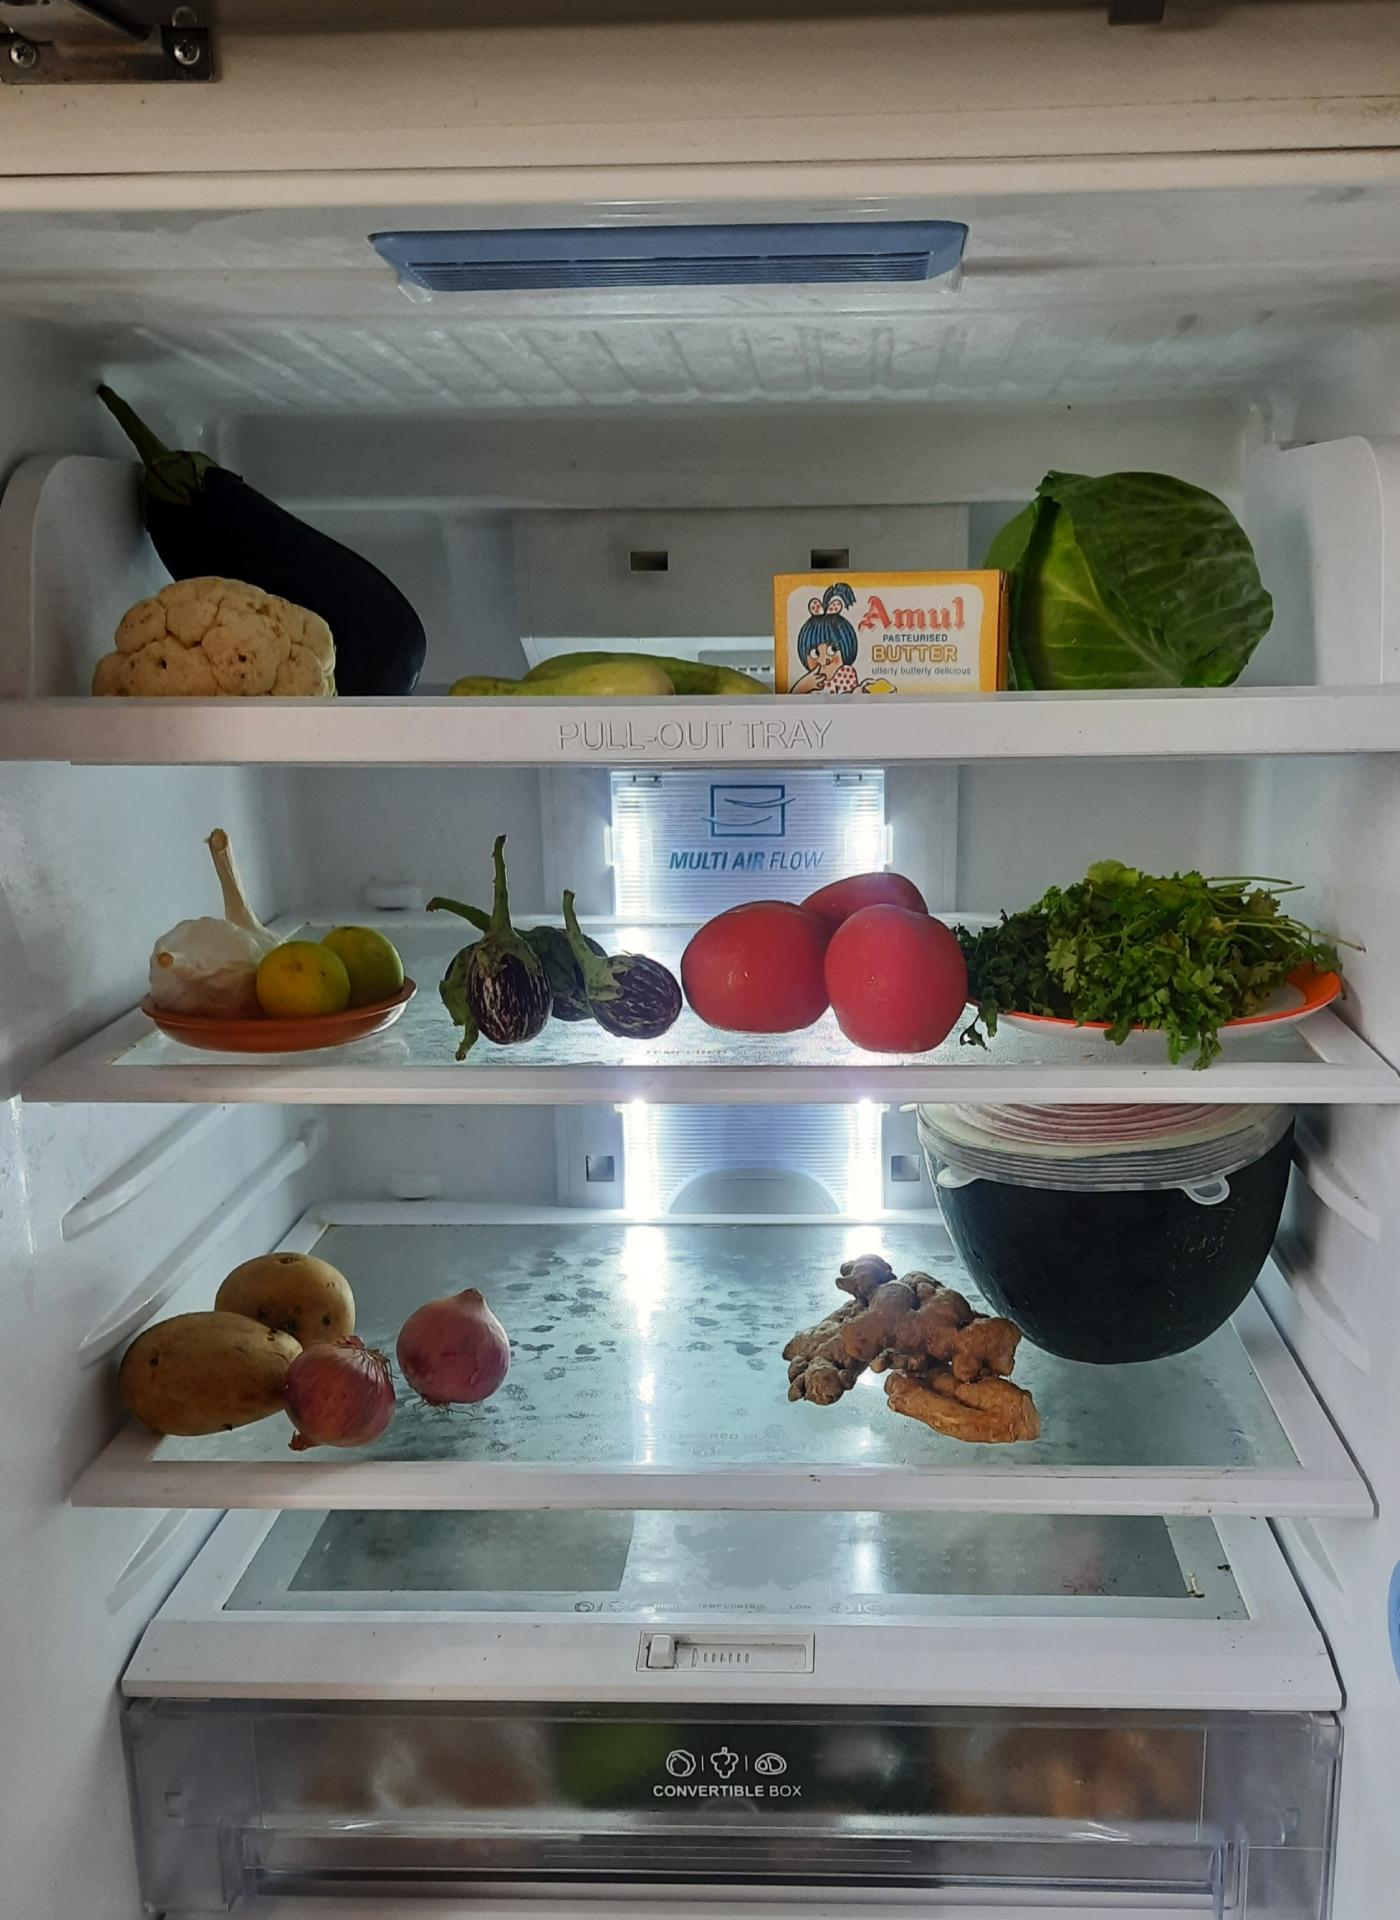brinjal: (91, 374, 437, 690), (441, 854, 686, 1051)
butter: (772, 562, 1015, 701)
cabbage: (997, 453, 1282, 683)
cauliflower: (88, 563, 368, 711)
coriander: (963, 871, 1342, 1042)
cucumber: (426, 631, 766, 711)
garlic: (121, 899, 247, 1042)
ginger: (772, 1245, 1035, 1456)
lemon: (258, 926, 401, 1023)
onion: (286, 1337, 401, 1474), (401, 1291, 519, 1421)
potato: (122, 1245, 297, 1471), (215, 1248, 362, 1371)
tomato: (689, 860, 972, 1043)
watermelon: (915, 1108, 1308, 1374)
